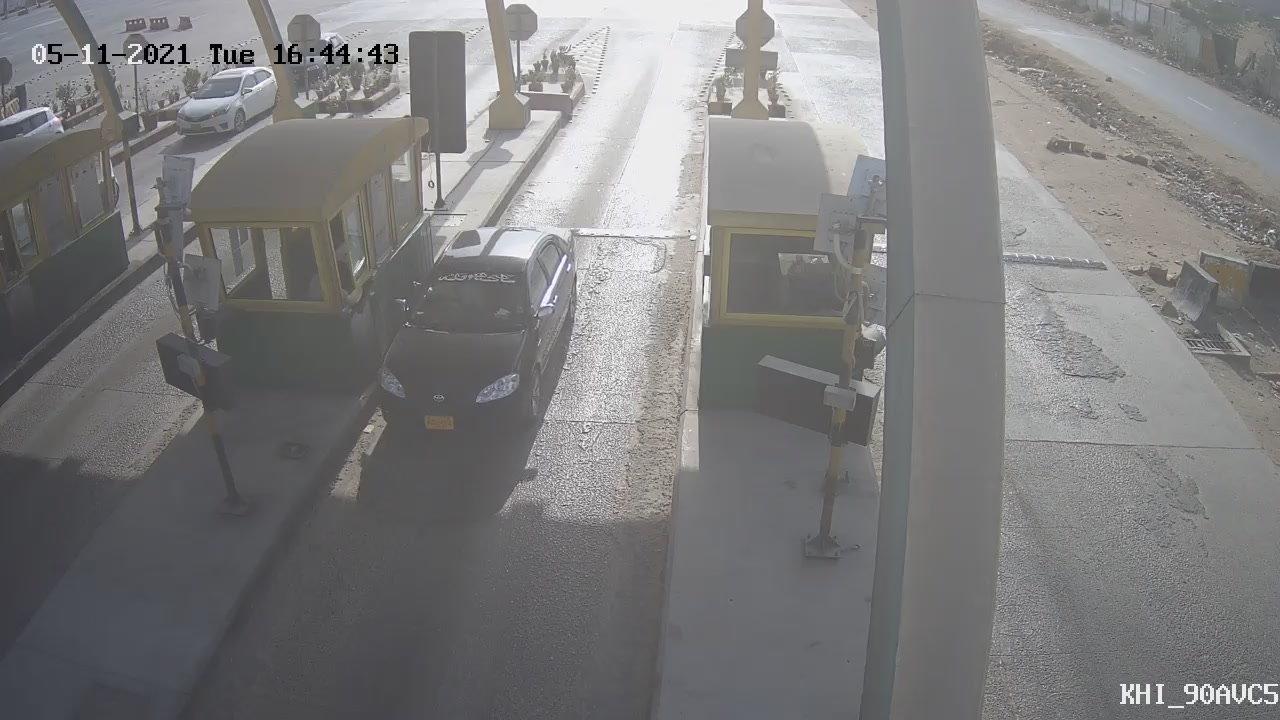F1: (348, 214, 596, 460)
